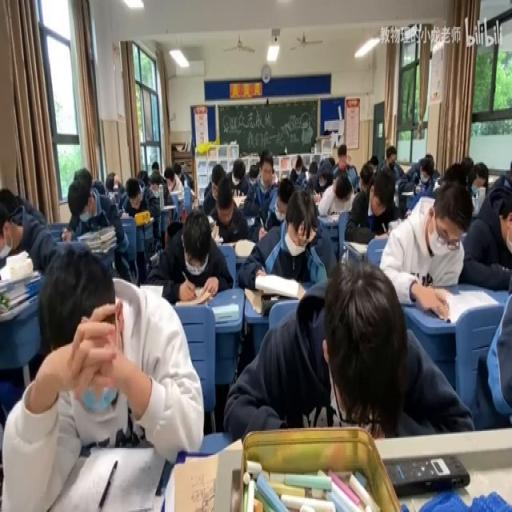calculator: (169, 453, 221, 512), (428, 286, 498, 324), (254, 270, 304, 299), (174, 282, 214, 307), (0, 292, 34, 320), (0, 267, 38, 291), (77, 224, 115, 242), (244, 286, 266, 314), (210, 302, 238, 322), (234, 238, 256, 256), (346, 239, 368, 253), (142, 283, 164, 297), (134, 214, 154, 228), (87, 243, 115, 253), (0, 240, 12, 260), (386, 219, 402, 233), (322, 212, 338, 225), (232, 194, 246, 208), (217, 239, 236, 247), (210, 224, 219, 240), (432, 176, 442, 190), (149, 250, 158, 264), (374, 230, 388, 238), (206, 215, 216, 226), (186, 188, 196, 199), (486, 175, 498, 183), (245, 214, 254, 224), (119, 209, 129, 218), (162, 204, 175, 210), (400, 191, 414, 196), (313, 192, 320, 202)
paper: (4, 242, 202, 506), (224, 259, 467, 439), (379, 179, 470, 309), (238, 188, 332, 290), (148, 203, 230, 300), (72, 168, 133, 282), (461, 165, 512, 289), (0, 186, 58, 275), (346, 164, 400, 244), (202, 160, 230, 214), (146, 168, 174, 216), (332, 144, 358, 192), (226, 156, 250, 196), (380, 145, 406, 181), (310, 158, 334, 193), (414, 153, 439, 185), (469, 161, 489, 195), (173, 159, 192, 189), (288, 155, 306, 186), (277, 176, 293, 205), (358, 165, 373, 193), (104, 171, 120, 192), (126, 182, 140, 206), (259, 164, 274, 186), (90, 179, 106, 198), (460, 155, 474, 176), (248, 163, 258, 185), (137, 168, 149, 186), (368, 154, 378, 172), (424, 156, 431, 168), (150, 160, 158, 170), (328, 156, 335, 165), (346, 155, 351, 164), (301, 165, 306, 173)
person: (384, 452, 470, 496)
